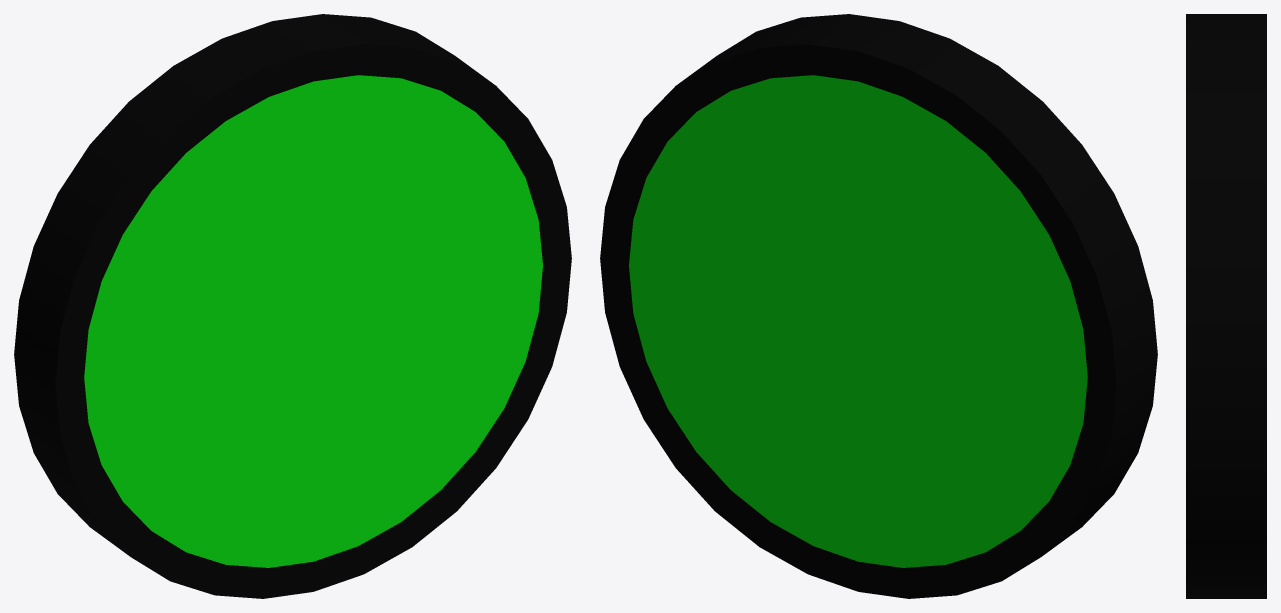
The model's file is entrance_icon.glb.
3 renders of one model, left to right at view 1: azimuth 30°, elevation 25°; view 2: azimuth 150°, elevation 25°; view 3: azimuth 270°, elevation 25°, orthographic.
Parts seen in each view (by area): view 1: Circle.001; view 2: Circle.001; view 3: Circle.001.
Boxes of the visible parts, bbox=[...] form: Circle.001: bbox=[14, 14, 571, 598]; Circle.001: bbox=[600, 14, 1157, 598]; Circle.001: bbox=[1186, 14, 1266, 598].
Bounding box in the file's own units: 2.76 × 2.76 × 0.382.
